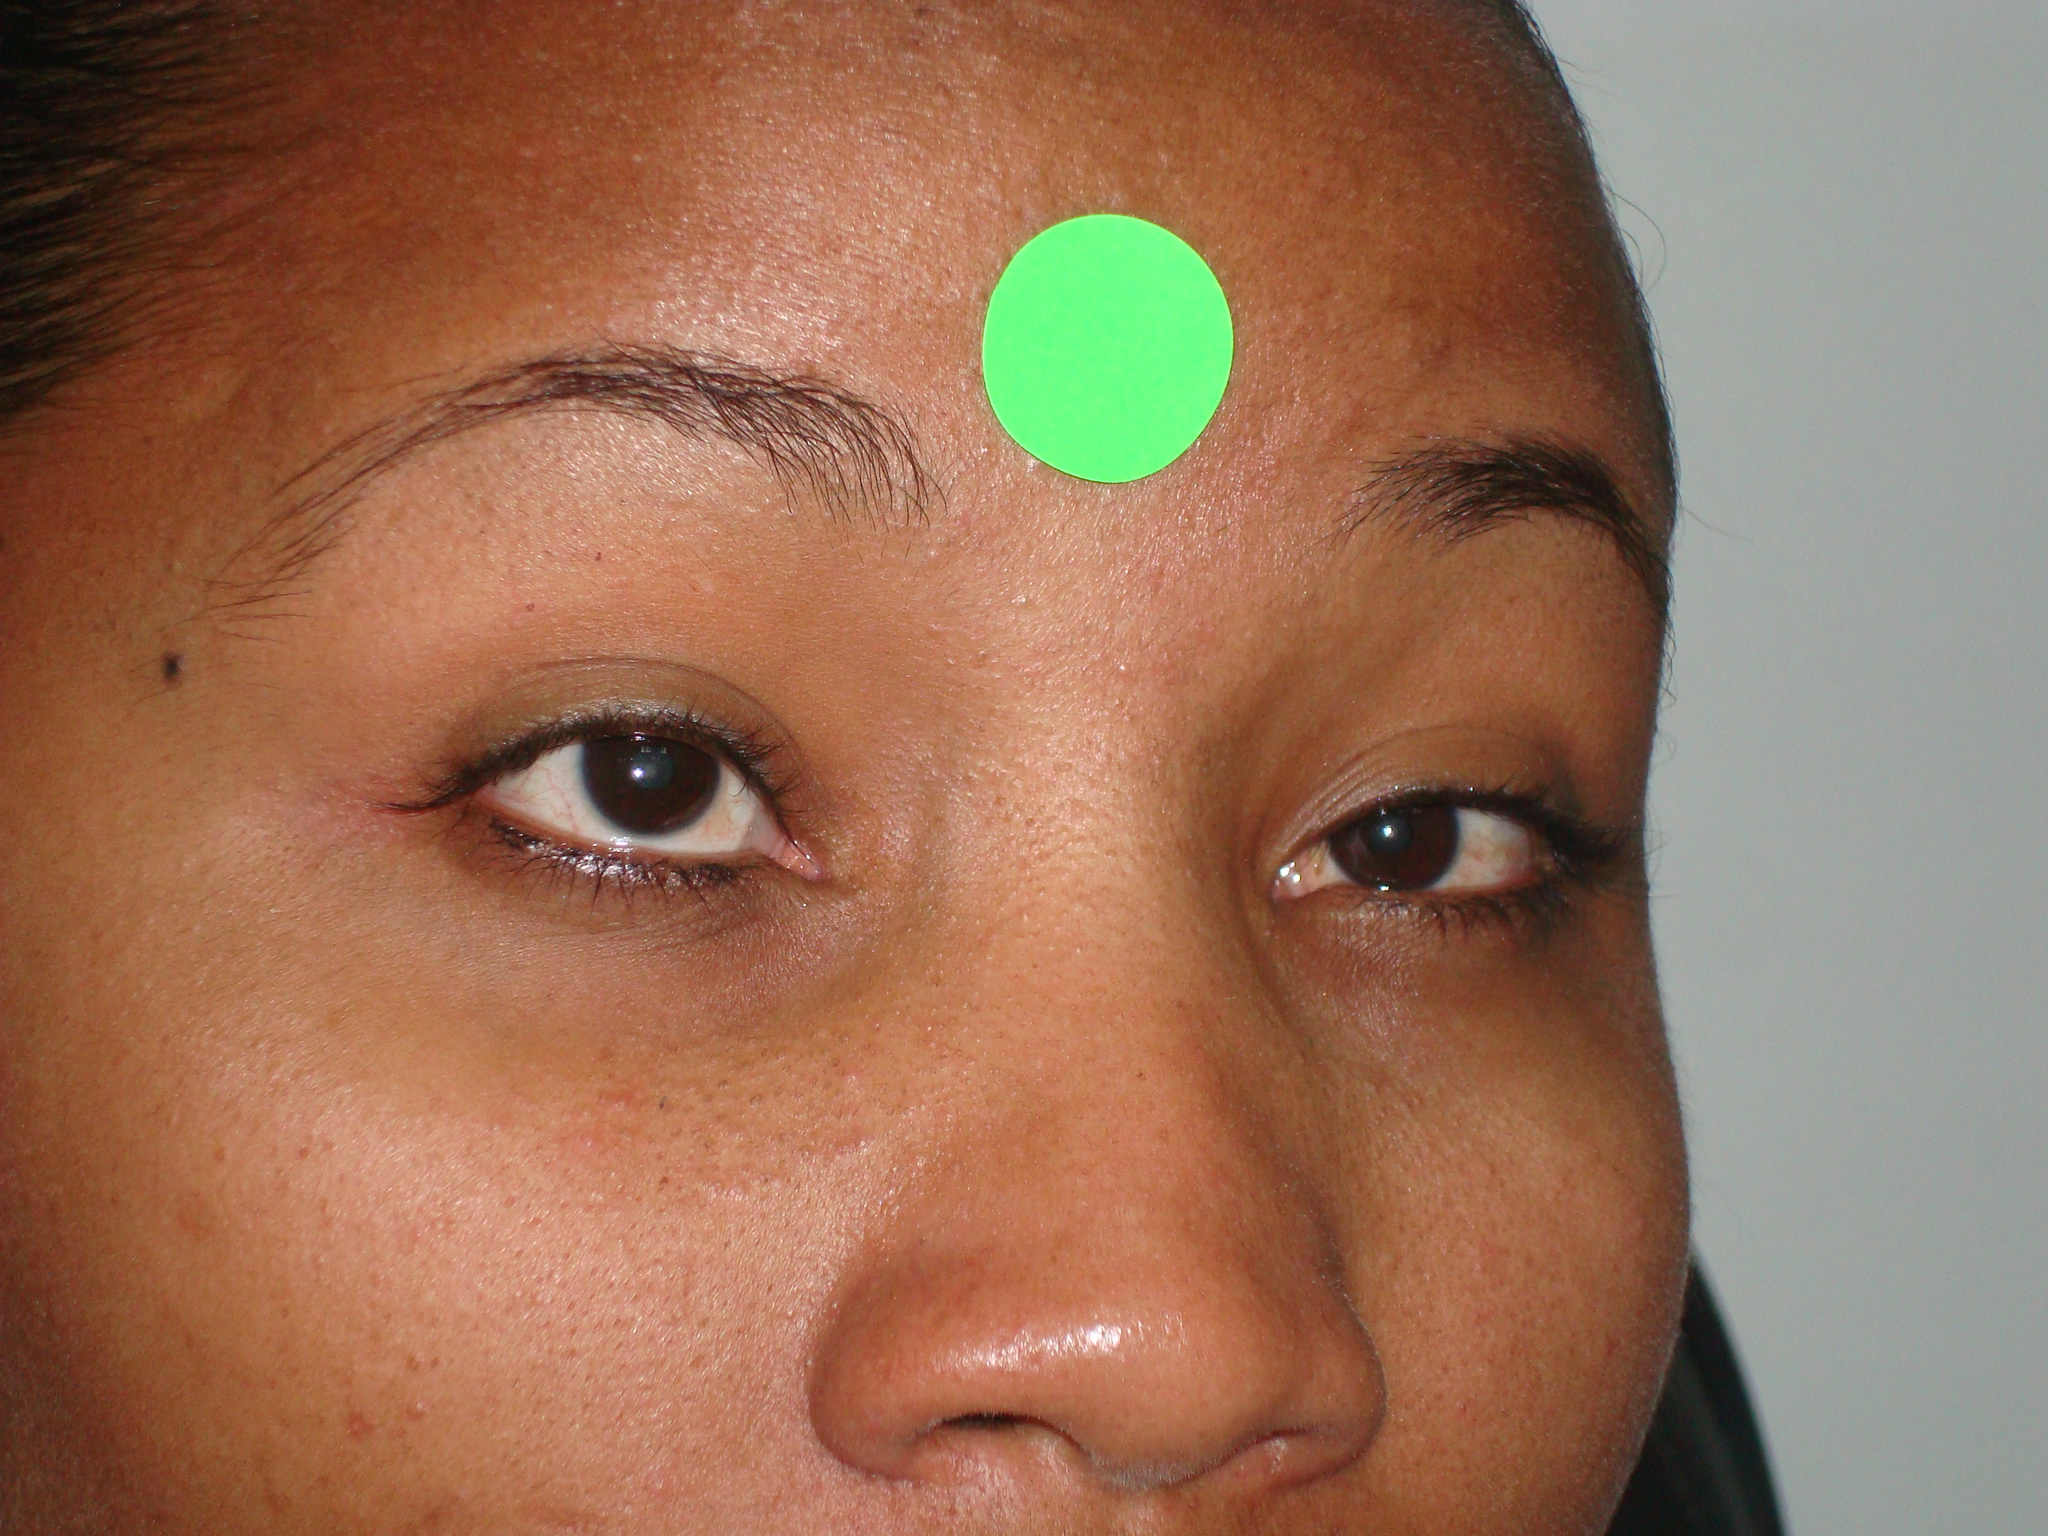flash: (626, 760, 650, 784), (1379, 823, 1397, 839)
limbo: (581, 705, 722, 826), (1326, 781, 1453, 884)
